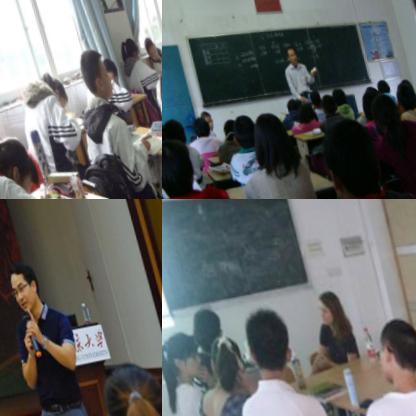head: (308, 114, 382, 199), (80, 348, 162, 416), (231, 302, 296, 385), (358, 310, 416, 390), (242, 109, 290, 166), (197, 330, 243, 388), (0, 259, 42, 320), (74, 46, 114, 106), (0, 133, 34, 199), (162, 327, 198, 381), (184, 303, 222, 354), (162, 139, 192, 199), (362, 91, 401, 136), (308, 287, 344, 328), (35, 67, 67, 113), (224, 113, 258, 153), (94, 51, 120, 87), (389, 81, 416, 115), (182, 113, 208, 144), (114, 32, 139, 62), (162, 115, 184, 148), (353, 87, 375, 119), (292, 102, 316, 129), (214, 115, 237, 143), (191, 107, 213, 132), (324, 84, 344, 111), (141, 33, 159, 61), (315, 94, 335, 119), (358, 80, 377, 104), (392, 75, 410, 99), (303, 88, 320, 111), (280, 46, 298, 67), (154, 42, 162, 85), (280, 96, 297, 116), (372, 79, 387, 95)
